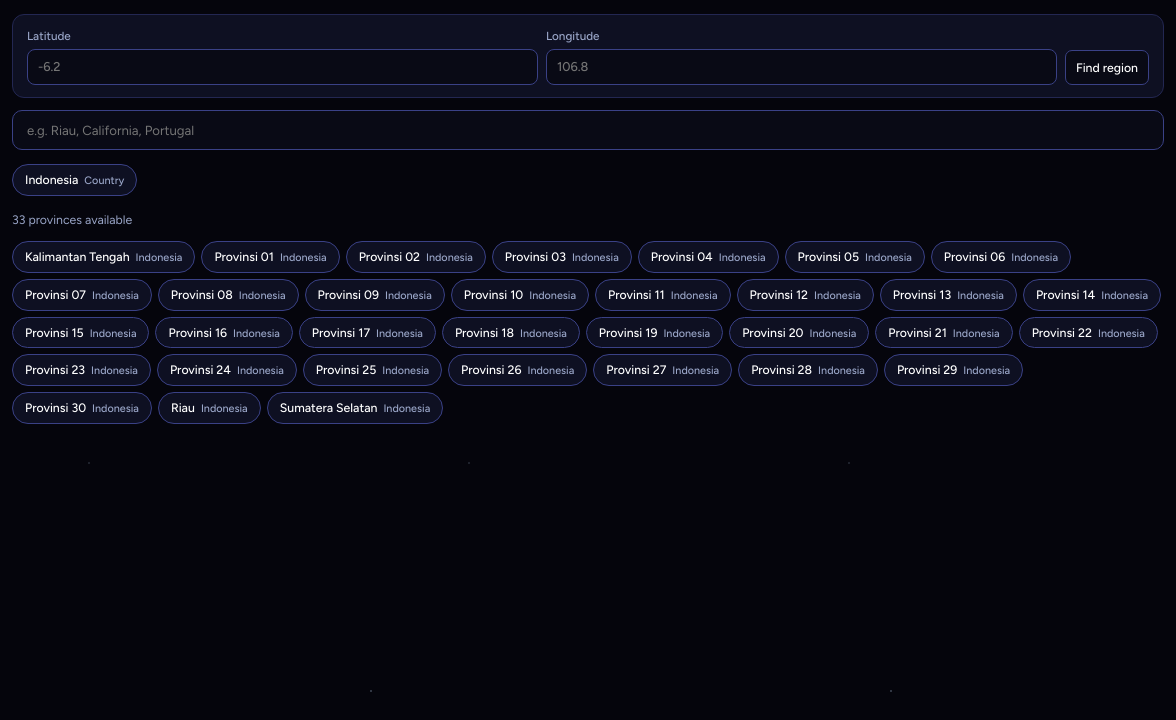
Test: RegionList › selects a province boundary and marks it pressed
Click the button "Riau Indonesia". click: click(209, 408)
box: x1=158 y1=392 x2=261 y2=424
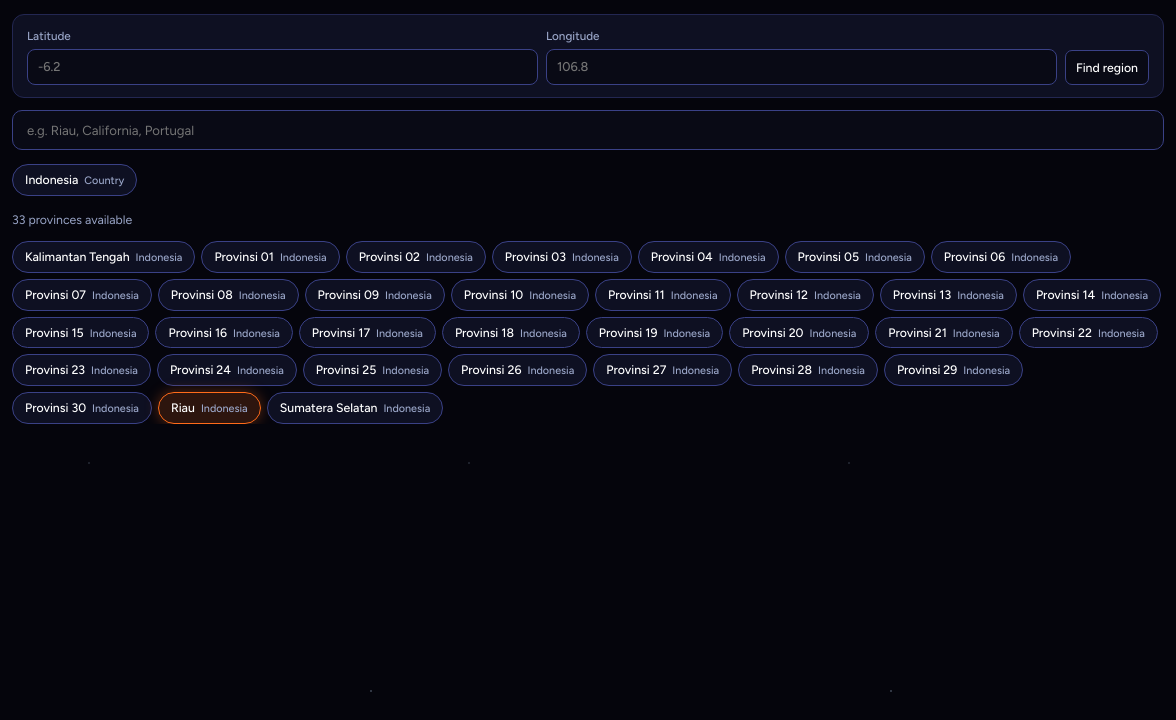
Result: the button "Riau Indonesia" is pressed at x1=158 y1=392 x2=261 y2=424
